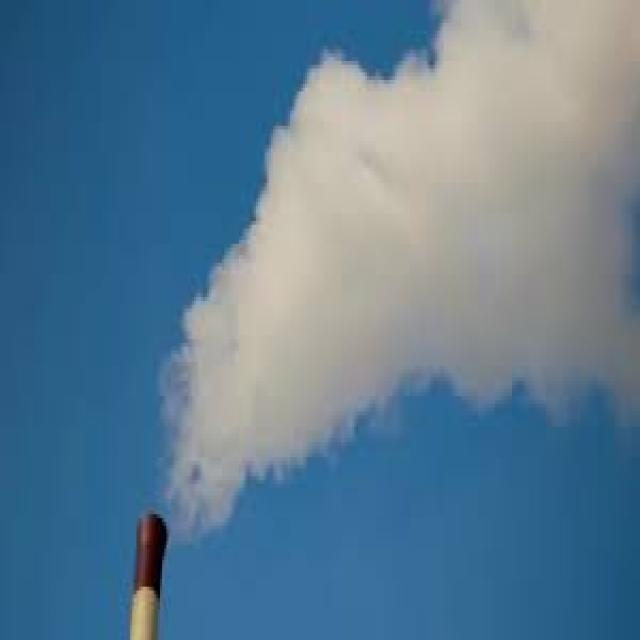Smoke: (157, 0, 640, 547)
